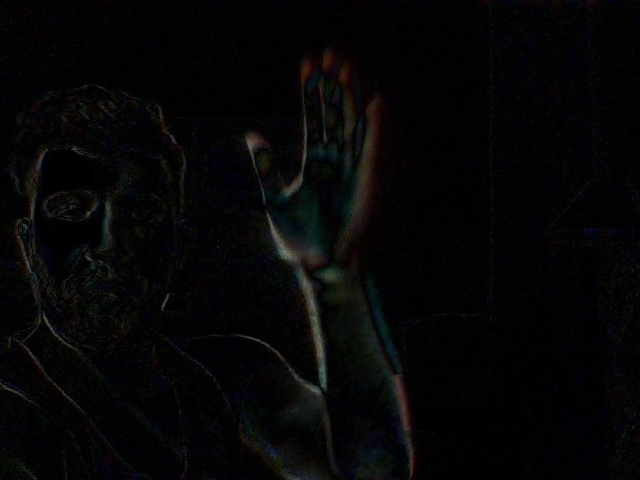arm_fo: (245, 45, 402, 354)
